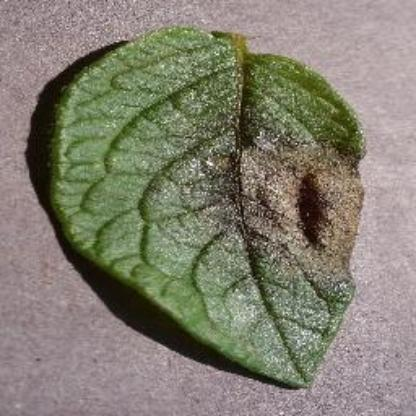Late-Blight: (36, 21, 374, 398)
